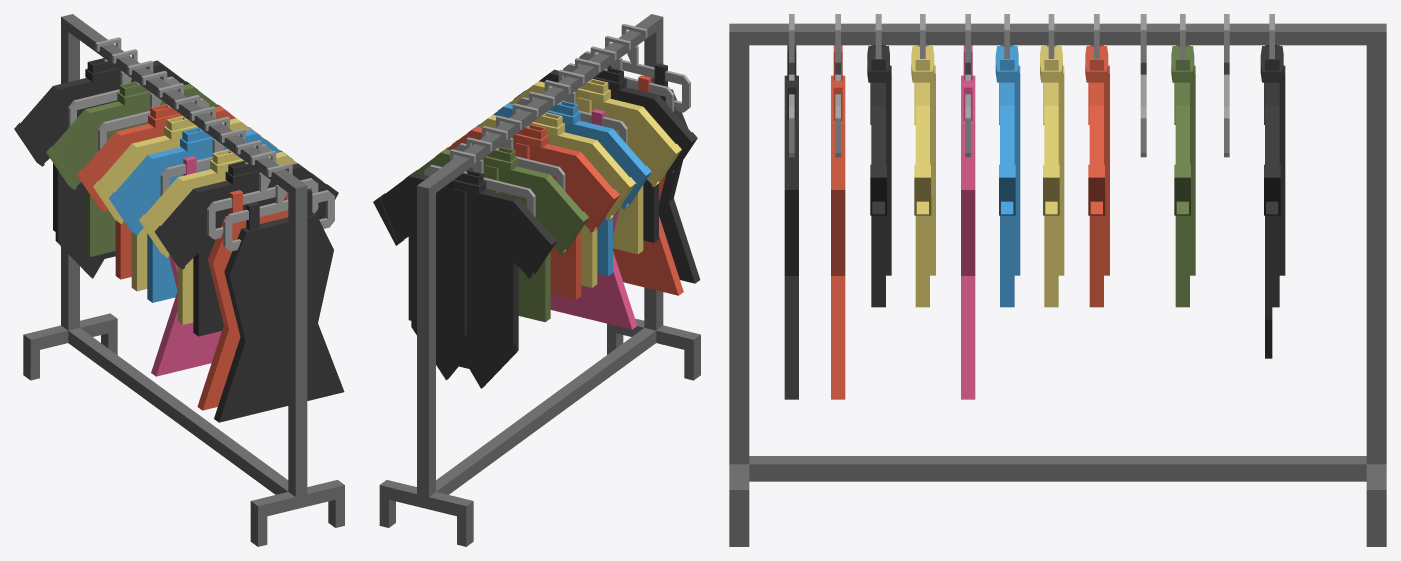
Rendered from Wardraobe.fbx.
The picture shows the model from 3 angles, left to right: view 1: azimuth 30°, elevation 25°; view 2: azimuth 150°, elevation 25°; view 3: azimuth 270°, elevation 25°; orthographic projection. The views are drawn at different scales.
Parts seen in each view (by area): view 1: Cube, Cube.016, Cube.020, Cube.012, Cube.022, Cube.006, Cube.014, Cube.008, Cube.002, Cube.004, Cube.010, Cube.015 (+4 smaller); view 2: Cube, Cube.020, Cube.022, Cube.004, Cube.008, Cube.002, Cube.012, Cube.006, Cube.010, Cube.014, Cube.016, Cube.015 (+4 smaller); view 3: Cube, Cube.020, Cube.006, Cube.022, Cube.004, Cube.008, Cube.002, Cube.012, Cube.010, Cube.014, Cube.016, Cube.023 (+4 smaller).
Part boxes in pixels (x1=…): Cube: x1=23, y1=14, x2=344, y2=546; Cube.016: x1=214, y1=189, x2=344, y2=422; Cube.020: x1=14, y1=58, x2=197, y2=278; Cube.012: x1=154, y1=161, x2=338, y2=336; Cube.022: x1=46, y1=81, x2=229, y2=256; Cube.006: x1=109, y1=127, x2=292, y2=302; Cube.014: x1=197, y1=190, x2=288, y2=410; Cube.008: x1=139, y1=149, x2=322, y2=324; Cube.002: x1=93, y1=115, x2=276, y2=291; Cube.004: x1=77, y1=104, x2=260, y2=279; Cube.010: x1=151, y1=156, x2=221, y2=376; Cube.015: x1=223, y1=162, x2=334, y2=251; Cube: x1=379, y1=14, x2=700, y2=546; Cube.020: x1=373, y1=170, x2=556, y2=388; Cube.022: x1=405, y1=146, x2=588, y2=322; Cube.004: x1=436, y1=124, x2=619, y2=299; Cube.008: x1=498, y1=78, x2=681, y2=254; Cube.002: x1=452, y1=112, x2=635, y2=287; Cube.012: x1=513, y1=67, x2=697, y2=242; Cube.006: x1=468, y1=101, x2=651, y2=276; Cube.010: x1=550, y1=109, x2=637, y2=329; Cube.014: x1=613, y1=75, x2=683, y2=295; Cube.016: x1=608, y1=63, x2=700, y2=283; Cube.015: x1=579, y1=23, x2=690, y2=112; Cube: x1=729, y1=23, x2=1386, y2=546; Cube.020: x1=1260, y1=45, x2=1285, y2=358; Cube.006: x1=995, y1=45, x2=1020, y2=307; Cube.022: x1=1171, y1=45, x2=1195, y2=307; Cube.004: x1=1085, y1=45, x2=1109, y2=307; Cube.008: x1=911, y1=45, x2=935, y2=307; Cube.002: x1=1040, y1=45, x2=1064, y2=307; Cube.012: x1=867, y1=45, x2=891, y2=307; Cube.010: x1=961, y1=45, x2=975, y2=399; Cube.014: x1=831, y1=45, x2=845, y2=399; Cube.016: x1=784, y1=45, x2=798, y2=399; Cube.023: x1=1140, y1=14, x2=1146, y2=157.
Size of the model in its own units: 133 by 252 by 303.
